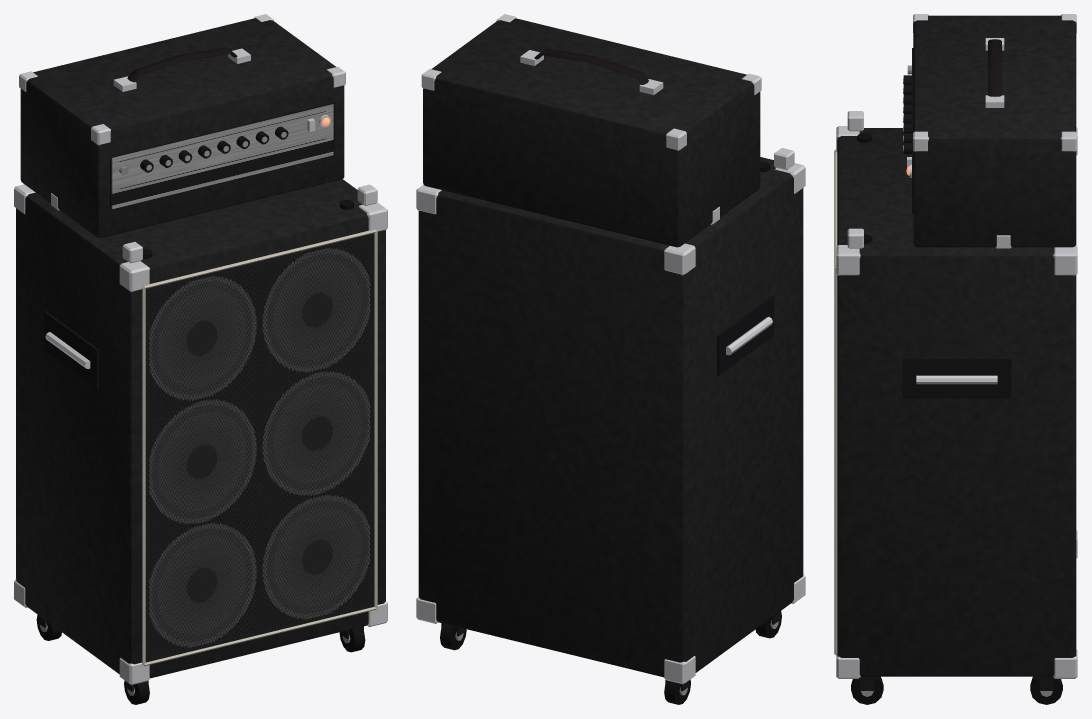
Rendered from bass-rig.glb.
3 renders of one model, left to right at view 1: azimuth 30°, elevation 25°; view 2: azimuth 150°, elevation 25°; view 3: azimuth 270°, elevation 25°, orthographic. The views are drawn at different scales.
Visible parts, largest first — view 1: bass-rig; view 2: bass-rig; view 3: bass-rig.
Boxes of the visible parts, bbox=[...] form: bass-rig: bbox=[14, 14, 387, 704]; bass-rig: bbox=[416, 14, 805, 704]; bass-rig: bbox=[834, 14, 1077, 704].
Size of the model in its own units: 0.593 by 1.2 by 0.4475.
2 materials, 1 textured.
